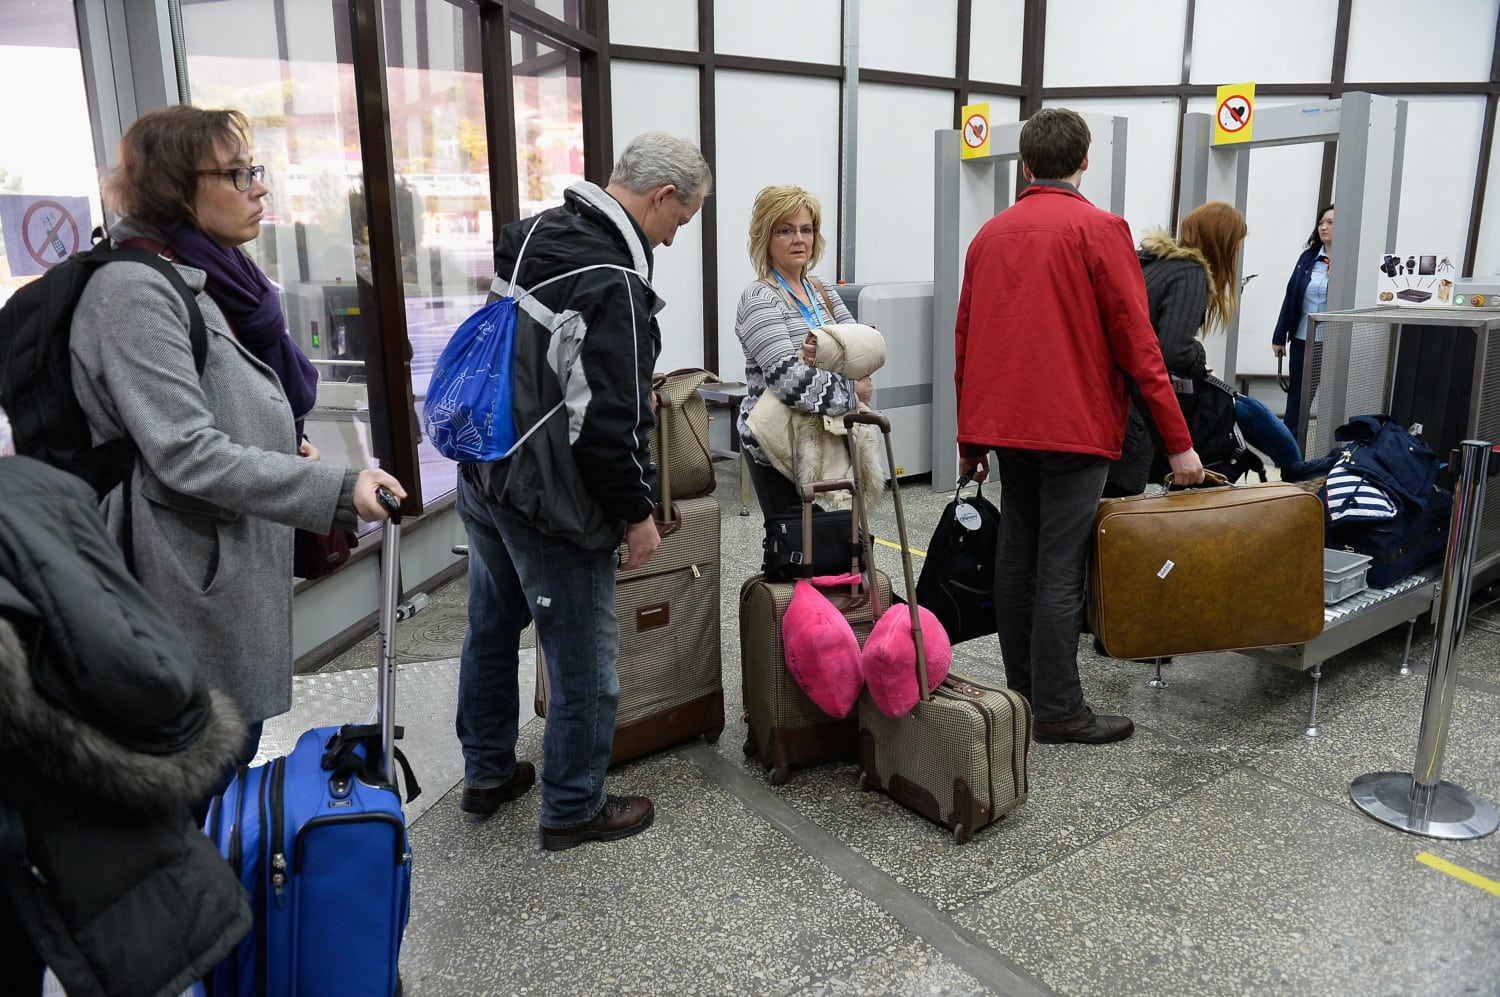backpack: (1, 231, 200, 498), (912, 466, 1009, 657)
bag: (1076, 468, 1344, 673), (405, 234, 623, 468), (1322, 419, 1458, 584), (645, 365, 736, 498)
luggage: (194, 482, 435, 996), (840, 407, 1043, 836), (732, 475, 899, 784), (600, 501, 731, 771)
